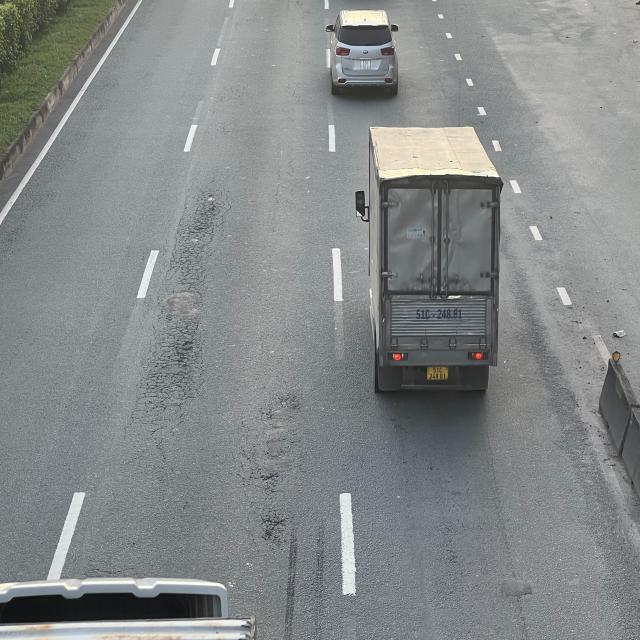car: (326, 7, 400, 96)
truck: (354, 125, 503, 395)
